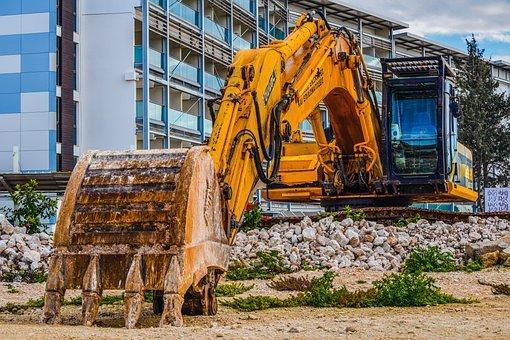excavator: (38, 24, 483, 326)
